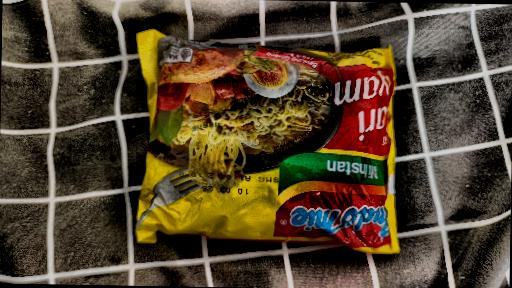indomie: (115, 16, 425, 288)
